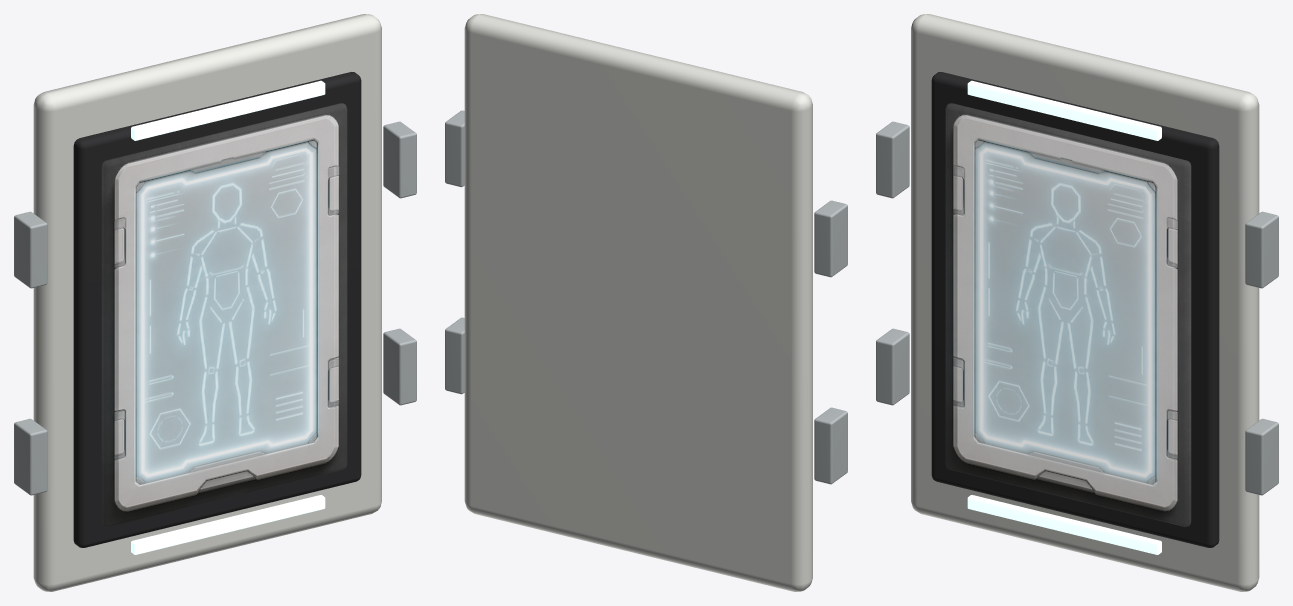
File: room_l1_img2_body_reference_lightbox.glb
3 views of the same model, side by side, from view 1: azimuth 30°, elevation 25°; view 2: azimuth 150°, elevation 25°; view 3: azimuth 330°, elevation 25° (orthographic).
Visible parts, largest first — view 1: abstract_body_reference_image2_panel, wall_spacer_back_plate, lightbox_dark_inner_gasket, top_cyan_structure_light, bottom_cyan_structure_light, side_wall_clip_+0.6_1.0, side_wall_clip_+0.6_0.4, side_wall_clip_-0.6_1.0, side_wall_clip_-0.6_0.4; view 2: wall_spacer_back_plate, side_wall_clip_-0.6_0.4, side_wall_clip_-0.6_1.0, side_wall_clip_+0.6_0.4, side_wall_clip_+0.6_1.0; view 3: abstract_body_reference_image2_panel, wall_spacer_back_plate, lightbox_dark_inner_gasket, top_cyan_structure_light, bottom_cyan_structure_light, side_wall_clip_-0.6_1.0, side_wall_clip_-0.6_0.4, side_wall_clip_+0.6_1.0, side_wall_clip_+0.6_0.4.
Part boxes in pixels (x1,y1,x2,y2): abstract_body_reference_image2_panel: [101, 103, 347, 526]; wall_spacer_back_plate: [33, 14, 381, 591]; lightbox_dark_inner_gasket: [73, 72, 361, 547]; top_cyan_structure_light: [131, 80, 325, 140]; bottom_cyan_structure_light: [131, 495, 325, 554]; side_wall_clip_+0.6_1.0: [383, 121, 416, 198]; side_wall_clip_+0.6_0.4: [383, 328, 416, 405]; side_wall_clip_-0.6_1.0: [14, 211, 47, 288]; side_wall_clip_-0.6_0.4: [14, 418, 47, 495]; wall_spacer_back_plate: [464, 14, 812, 591]; side_wall_clip_-0.6_0.4: [814, 407, 847, 484]; side_wall_clip_-0.6_1.0: [814, 200, 847, 277]; side_wall_clip_+0.6_0.4: [445, 317, 464, 394]; side_wall_clip_+0.6_1.0: [445, 110, 464, 187]; abstract_body_reference_image2_panel: [945, 103, 1191, 526]; wall_spacer_back_plate: [911, 14, 1259, 591]; lightbox_dark_inner_gasket: [931, 72, 1219, 547]; top_cyan_structure_light: [967, 80, 1161, 140]; bottom_cyan_structure_light: [967, 495, 1161, 554]; side_wall_clip_-0.6_1.0: [876, 121, 909, 198]; side_wall_clip_-0.6_0.4: [876, 328, 909, 405]; side_wall_clip_+0.6_1.0: [1245, 211, 1278, 288]; side_wall_clip_+0.6_0.4: [1245, 418, 1278, 495].
Bounding box in the file's own units: 1.17 × 1.44 × 0.158.
Materials: 5 (1 with a texture image).
